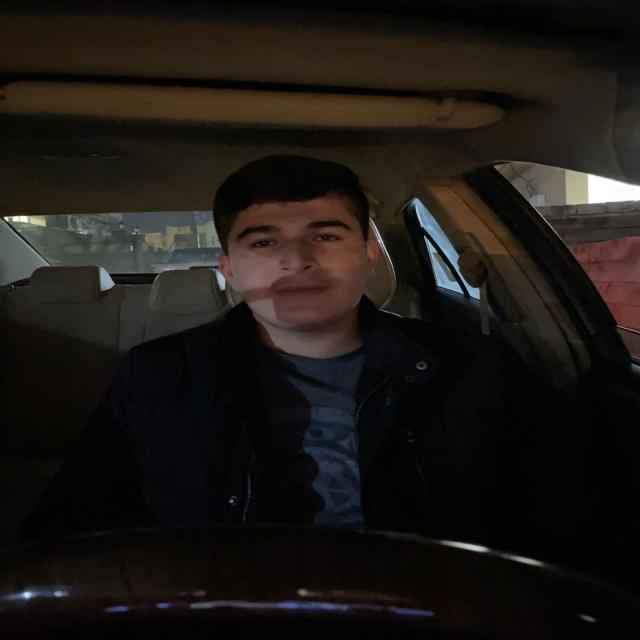person: (214, 180, 378, 326)
